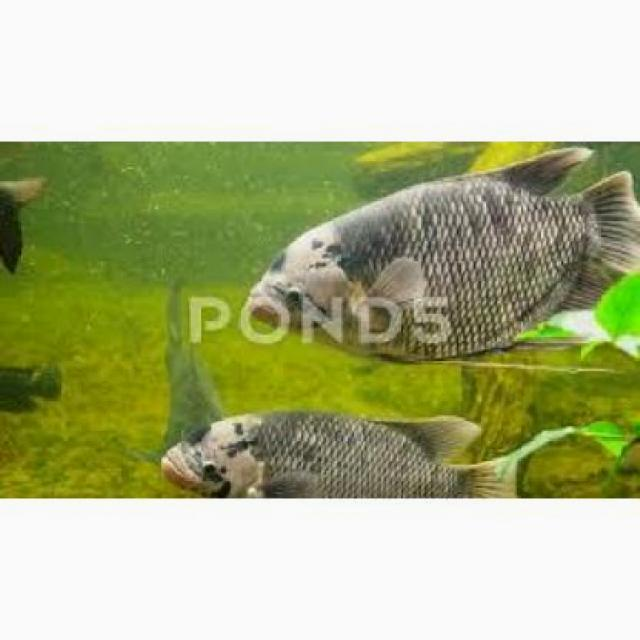gurame: (246, 143, 640, 354), (159, 407, 521, 498)
